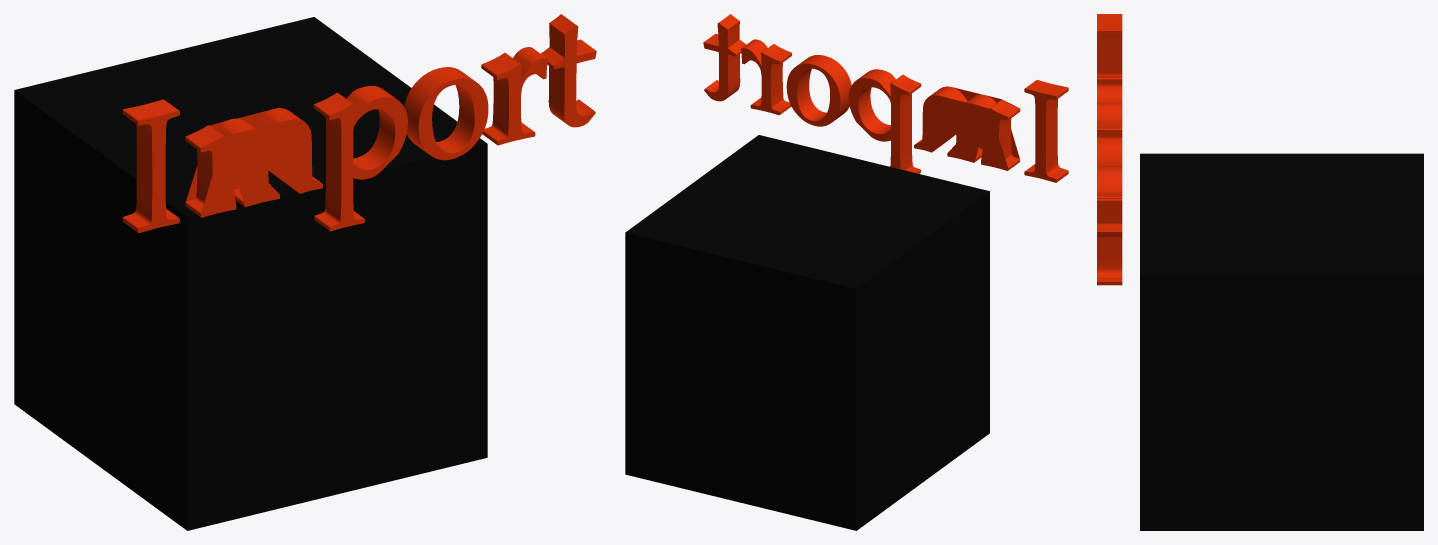
The model's file is importbox.fbx.
The picture shows the model from 3 angles, left to right: view 1: azimuth 30°, elevation 25°; view 2: azimuth 150°, elevation 25°; view 3: azimuth 270°, elevation 25°; orthographic projection. The views are drawn at different scales.
Visible parts, largest first — view 1: polySurface16; view 2: polySurface16; view 3: polySurface16.
Boxes of the visible parts, x1=… form: polySurface16: x1=14, y1=14, x2=596, y2=530; polySurface16: x1=625, y1=14, x2=1068, y2=530; polySurface16: x1=1097, y1=14, x2=1423, y2=530.
Bounding box in the file's own units: 1.53 × 1.43 × 1.15.
